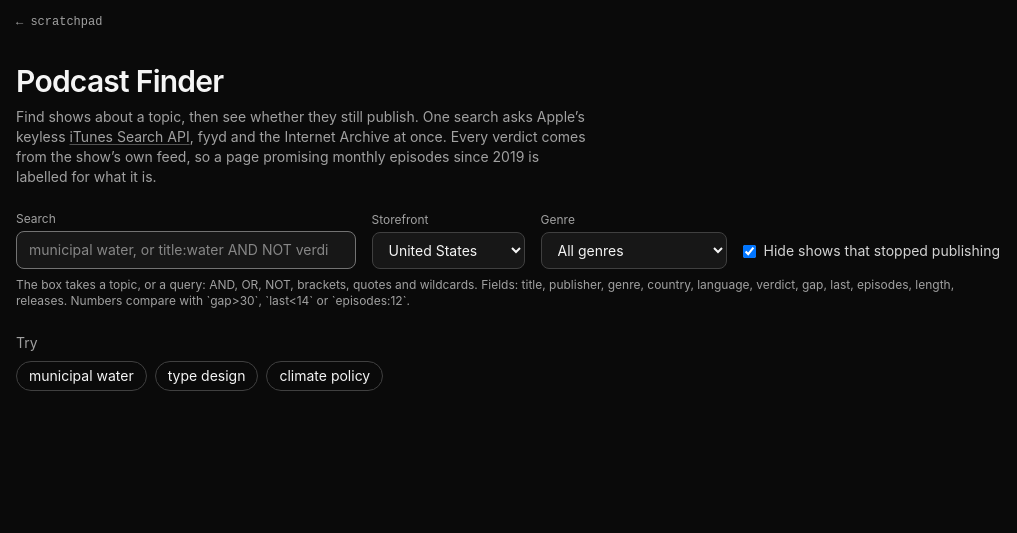
Test: PodcastFinderPage › keeps each directory’s numbers and says so when feeds cannot be checked
Type "drains" into the search field labelled "Search" at (186, 250), box [16,231,356,269]
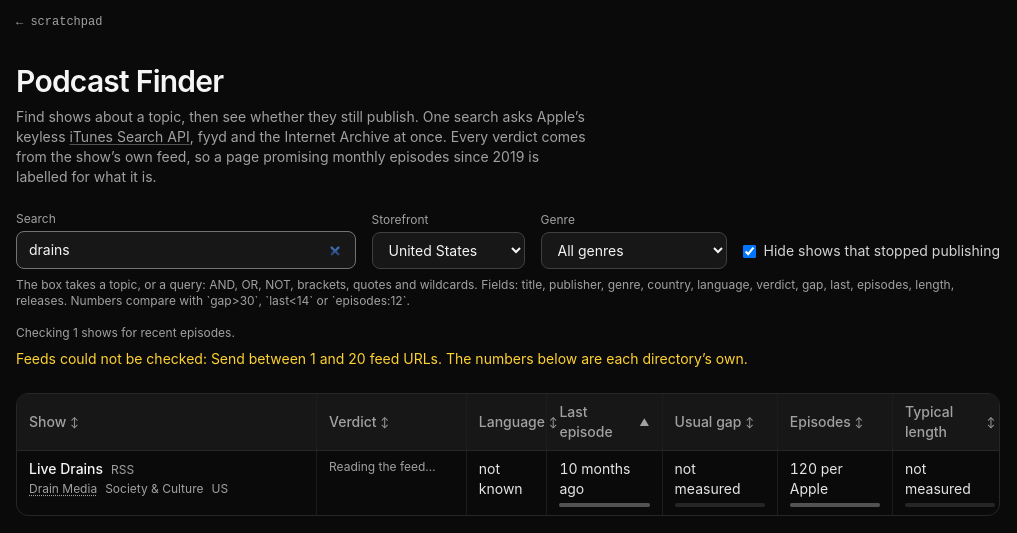
Expected: the text "Feeds could not be checked" is shown, [16,350,211,367]
Expected: the link "Live Drains" is shown, [29,459,103,479]
Expected: the text "120 per Apple" is shown, [790,460,843,497]
